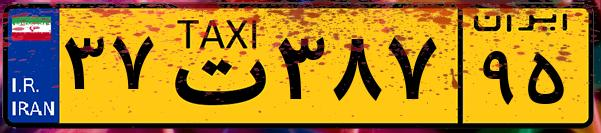3: (270, 28, 330, 110), (57, 26, 110, 100)
5: (525, 38, 570, 115)
7: (385, 28, 445, 110), (110, 28, 158, 98)
8: (330, 28, 385, 110)
9: (475, 38, 525, 113)
ت: (158, 12, 270, 120)
